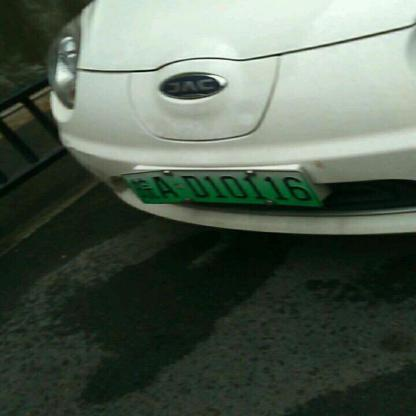lp: (119, 170, 320, 204)
